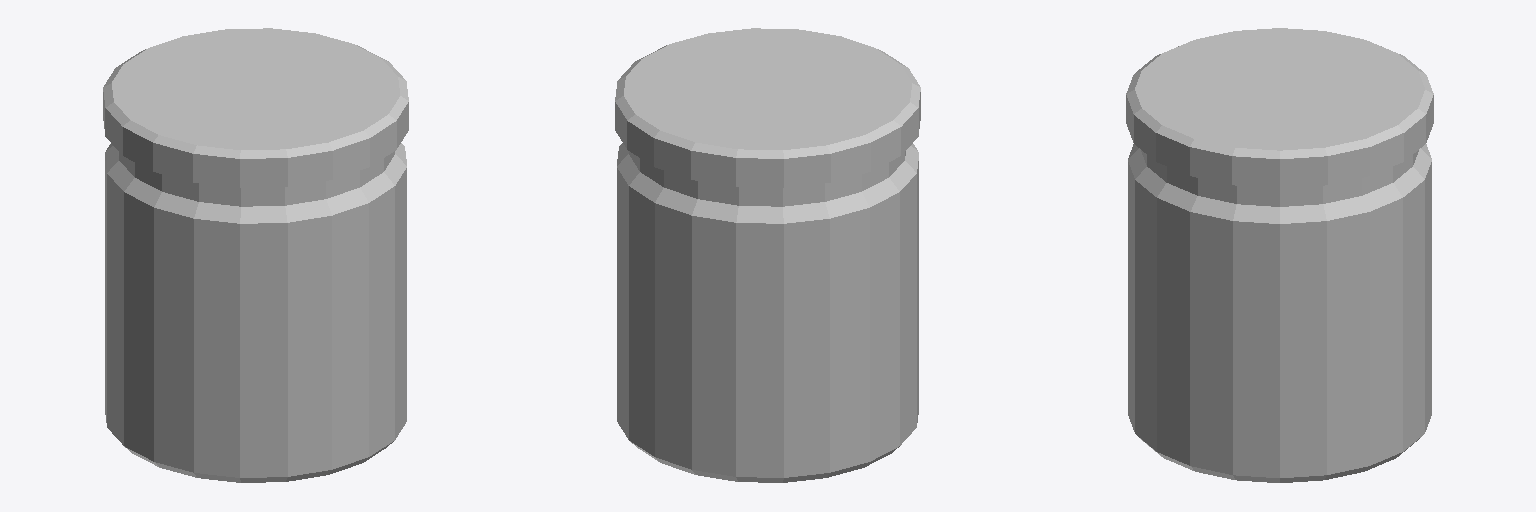
The model's file is jamjar.obj.
3 renders of one model, left to right at view 1: azimuth 30°, elevation 25°; view 2: azimuth 150°, elevation 25°; view 3: azimuth 270°, elevation 25°, orthographic.
Visible parts, largest first — view 1: pCylinder1; view 2: pCylinder1; view 3: pCylinder1.
Part boxes in pixels (x1,y1,x2,y2): pCylinder1: (103,28,408,482); pCylinder1: (615,28,920,482); pCylinder1: (1126,28,1433,482).
Bounding box in the file's own units: 126 × 151 × 126.